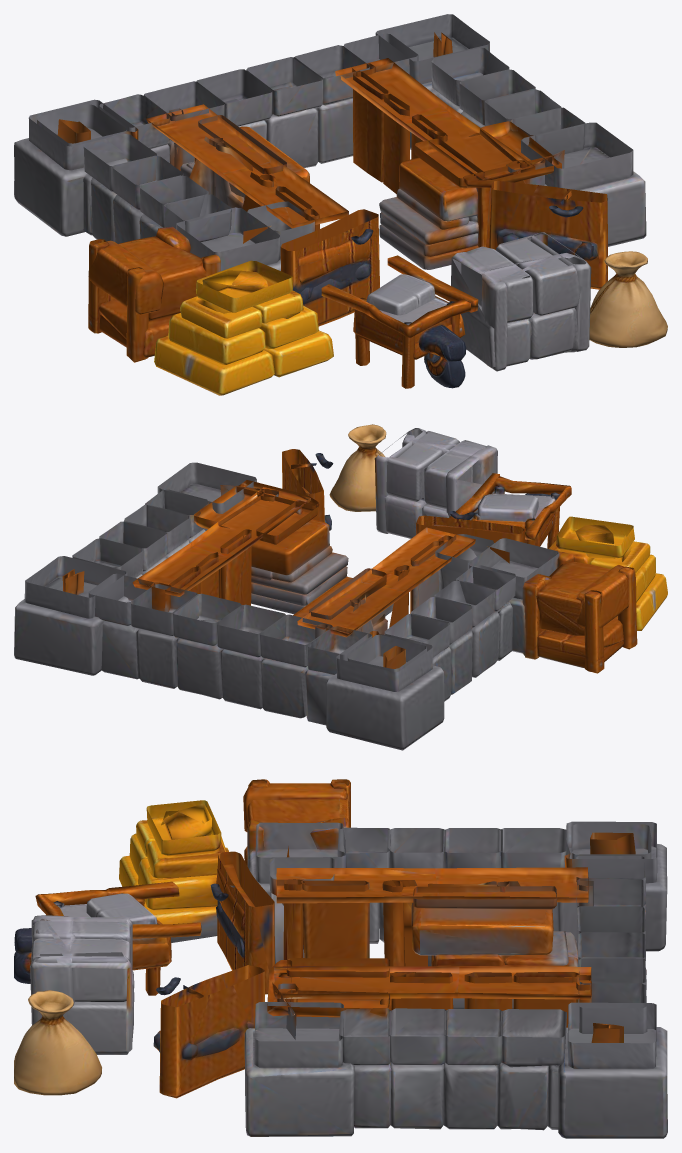
File: deposito-minerales_e1.glb
3 views of the same model, one above another, from view 1: azimuth 30°, elevation 25°; view 2: azimuth 150°, elevation 25°; view 3: azimuth 270°, elevation 25° (orthographic). The views are drawn at different scales.
Visible parts, largest first — view 1: deposito-minerales_cuerpo; view 2: deposito-minerales_cuerpo; view 3: deposito-minerales_cuerpo.
Part boxes in pixels (left/top/right/bottom): deposito-minerales_cuerpo: left=14, top=14, right=667, bottom=395; deposito-minerales_cuerpo: left=14, top=424, right=667, bottom=750; deposito-minerales_cuerpo: left=14, top=779, right=667, bottom=1138.
Size of the model in its own units: 1.84 by 0.3095 by 1.88.
1 material, 1 textured.
